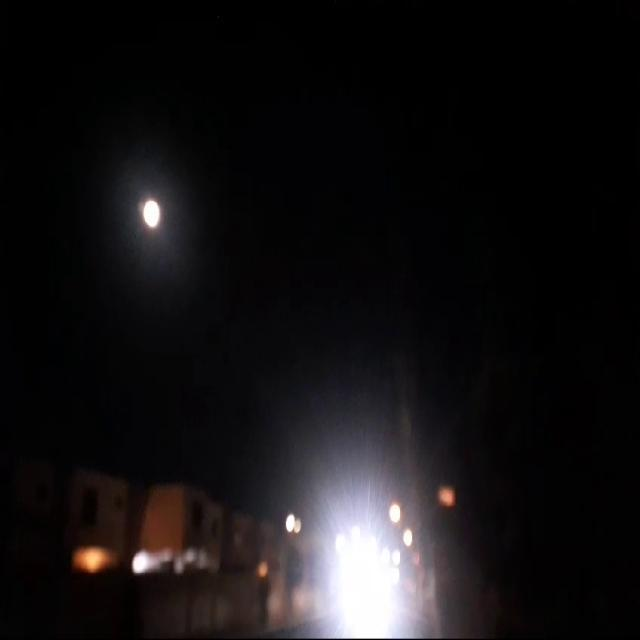moon: (144, 195, 164, 231)
